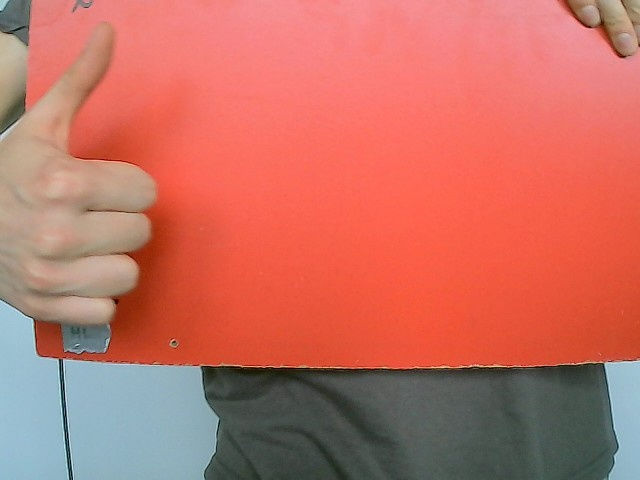up: (1, 20, 158, 328)
